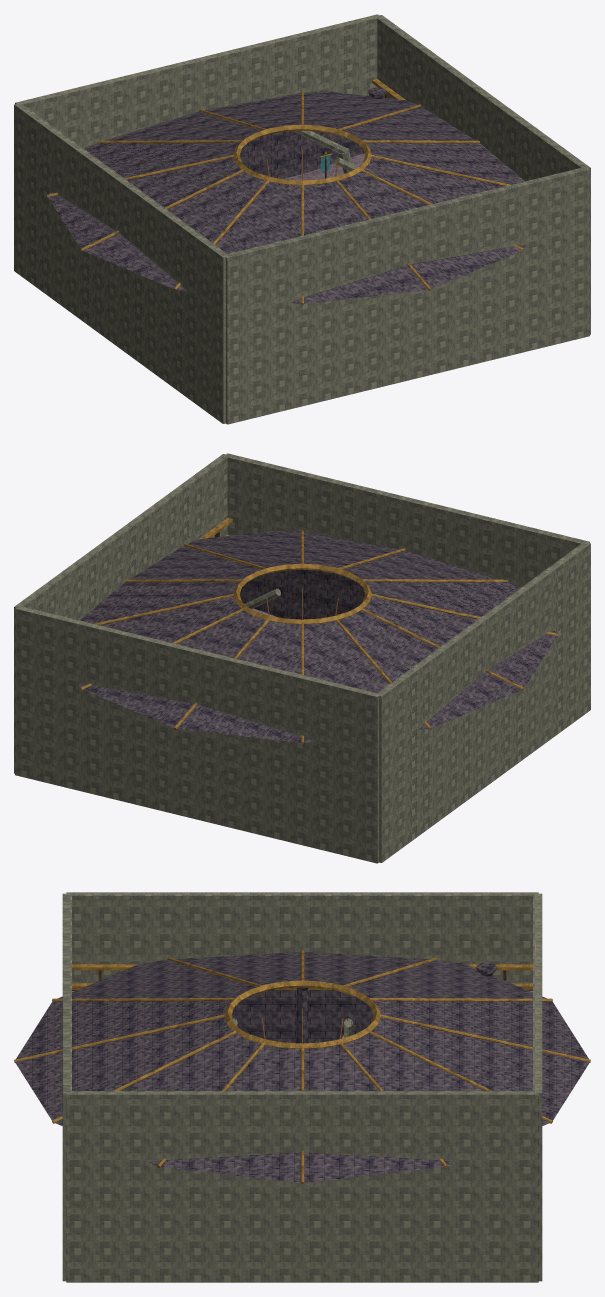
The model's file is EchoRotunda-e421517467b1.glb.
3 views of the same model, one above another, from view 1: azimuth 30°, elevation 25°; view 2: azimuth 150°, elevation 25°; view 3: azimuth 270°, elevation 25° (orthographic). The views are drawn at different scales.
Parts seen in each view (by area): view 1: C_Solids, Rim, Set, Terrain; view 2: C_Solids, Rim; view 3: C_Solids, Rim, Set.
Boxes of the visible parts, box(x1,y1,x2,y2) form: C_Solids: box(14, 14, 590, 424); Rim: box(47, 79, 526, 305); Set: box(294, 87, 386, 178); Terrain: box(283, 153, 365, 180); C_Solids: box(14, 453, 590, 863); Rim: box(78, 518, 557, 744); C_Solids: box(62, 892, 542, 1282); Rim: box(14, 950, 590, 1184); Set: box(233, 962, 497, 1043).
Size of the model in its own units: 50.07 by 18 by 50.07.
Materials: 12 (12 with a texture image).
